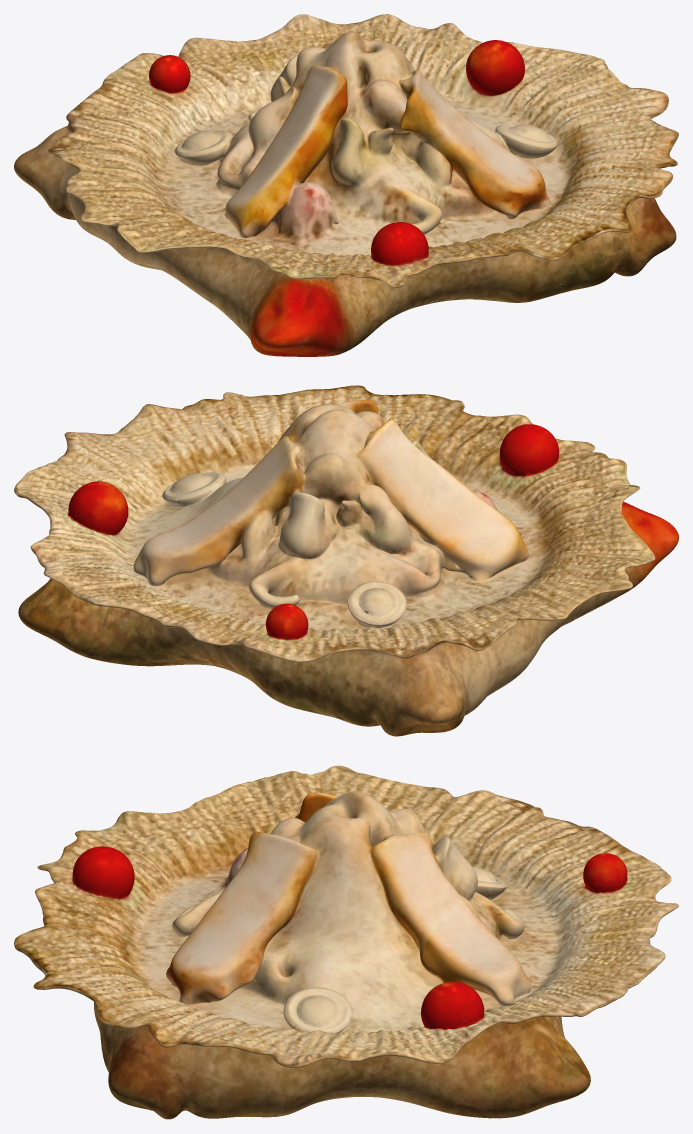
Rendered from sezar2.glb.
3 renders of one model, top to bottom at view 1: azimuth 30°, elevation 25°; view 2: azimuth 150°, elevation 25°; view 3: azimuth 270°, elevation 25°, orthographic. The views are drawn at different scales.
Parts seen in each view (by area): view 1: sezar; view 2: sezar; view 3: sezar.
Boxes of the visible parts, x1,y1,x2,y2 form: sezar: [14, 14, 678, 356]; sezar: [14, 385, 678, 736]; sezar: [14, 765, 678, 1119].
Bounding box in the file's own units: 0.9823 × 0.3935 × 0.9236.
Materials: 1 (1 with a texture image).
